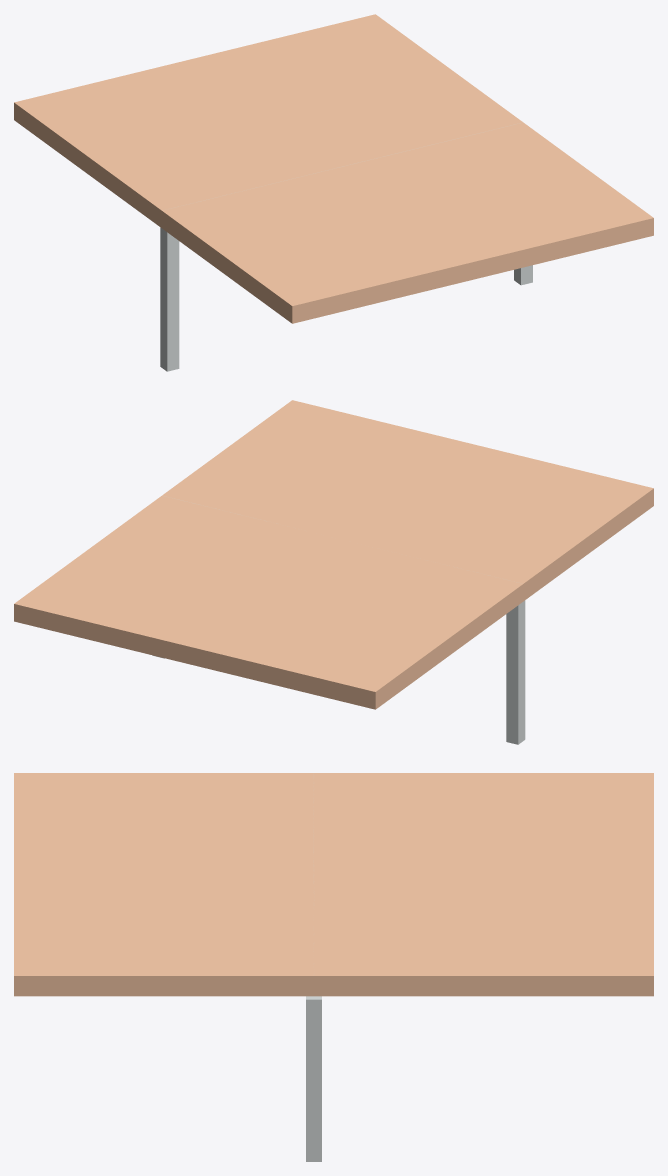
Rendered from desk-row-d5.glb.
The picture shows the model from 3 angles, top to bottom: view 1: azimuth 30°, elevation 25°; view 2: azimuth 150°, elevation 25°; view 3: azimuth 270°, elevation 25°; orthographic projection. The views are drawn at different scales.
Visible parts, largest first — view 1: desktop, shared-corner-leg; view 2: desktop, shared-corner-leg; view 3: desktop, shared-corner-leg.
Boxes of the visible parts, x1,y1,x2,y2 form: desktop: [14, 14, 653, 323]; shared-corner-leg: [160, 227, 179, 371]; desktop: [14, 400, 653, 709]; shared-corner-leg: [506, 600, 525, 744]; desktop: [14, 773, 653, 996]; shared-corner-leg: [306, 996, 321, 1161].
Bounding box in the file's own units: 3.05 × 1.26 × 4.
1 material, 1 textured.
